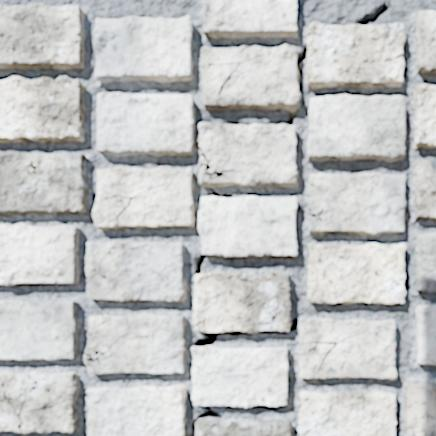brick: (306, 22, 405, 87), (308, 95, 405, 161), (94, 16, 192, 81), (201, 45, 299, 109), (93, 167, 194, 229), (199, 123, 297, 186), (84, 314, 187, 373), (307, 173, 405, 235), (97, 93, 194, 155), (86, 241, 185, 301), (193, 271, 290, 332), (299, 319, 396, 379), (308, 244, 405, 303), (199, 197, 296, 256), (192, 347, 287, 407), (0, 77, 86, 141), (0, 4, 84, 69), (0, 152, 87, 213), (87, 385, 185, 435), (0, 371, 79, 432), (0, 224, 79, 284), (0, 300, 79, 359), (299, 391, 395, 435), (203, 0, 296, 37), (404, 378, 435, 435), (197, 419, 290, 435), (414, 85, 435, 148), (414, 159, 435, 219), (415, 11, 435, 74), (415, 233, 435, 292), (416, 305, 435, 364), (0, 399, 18, 431)
crack: (0, 380, 38, 433), (198, 146, 243, 179), (221, 109, 298, 126), (307, 189, 341, 221), (352, 0, 392, 26), (190, 404, 223, 435), (193, 330, 252, 347), (84, 336, 119, 364), (88, 249, 111, 282), (260, 317, 298, 333), (296, 43, 308, 89), (202, 186, 233, 198), (193, 252, 207, 276), (202, 2, 209, 18), (321, 22, 347, 26), (417, 245, 426, 255), (13, 207, 25, 211), (86, 392, 90, 398), (197, 134, 200, 139)
